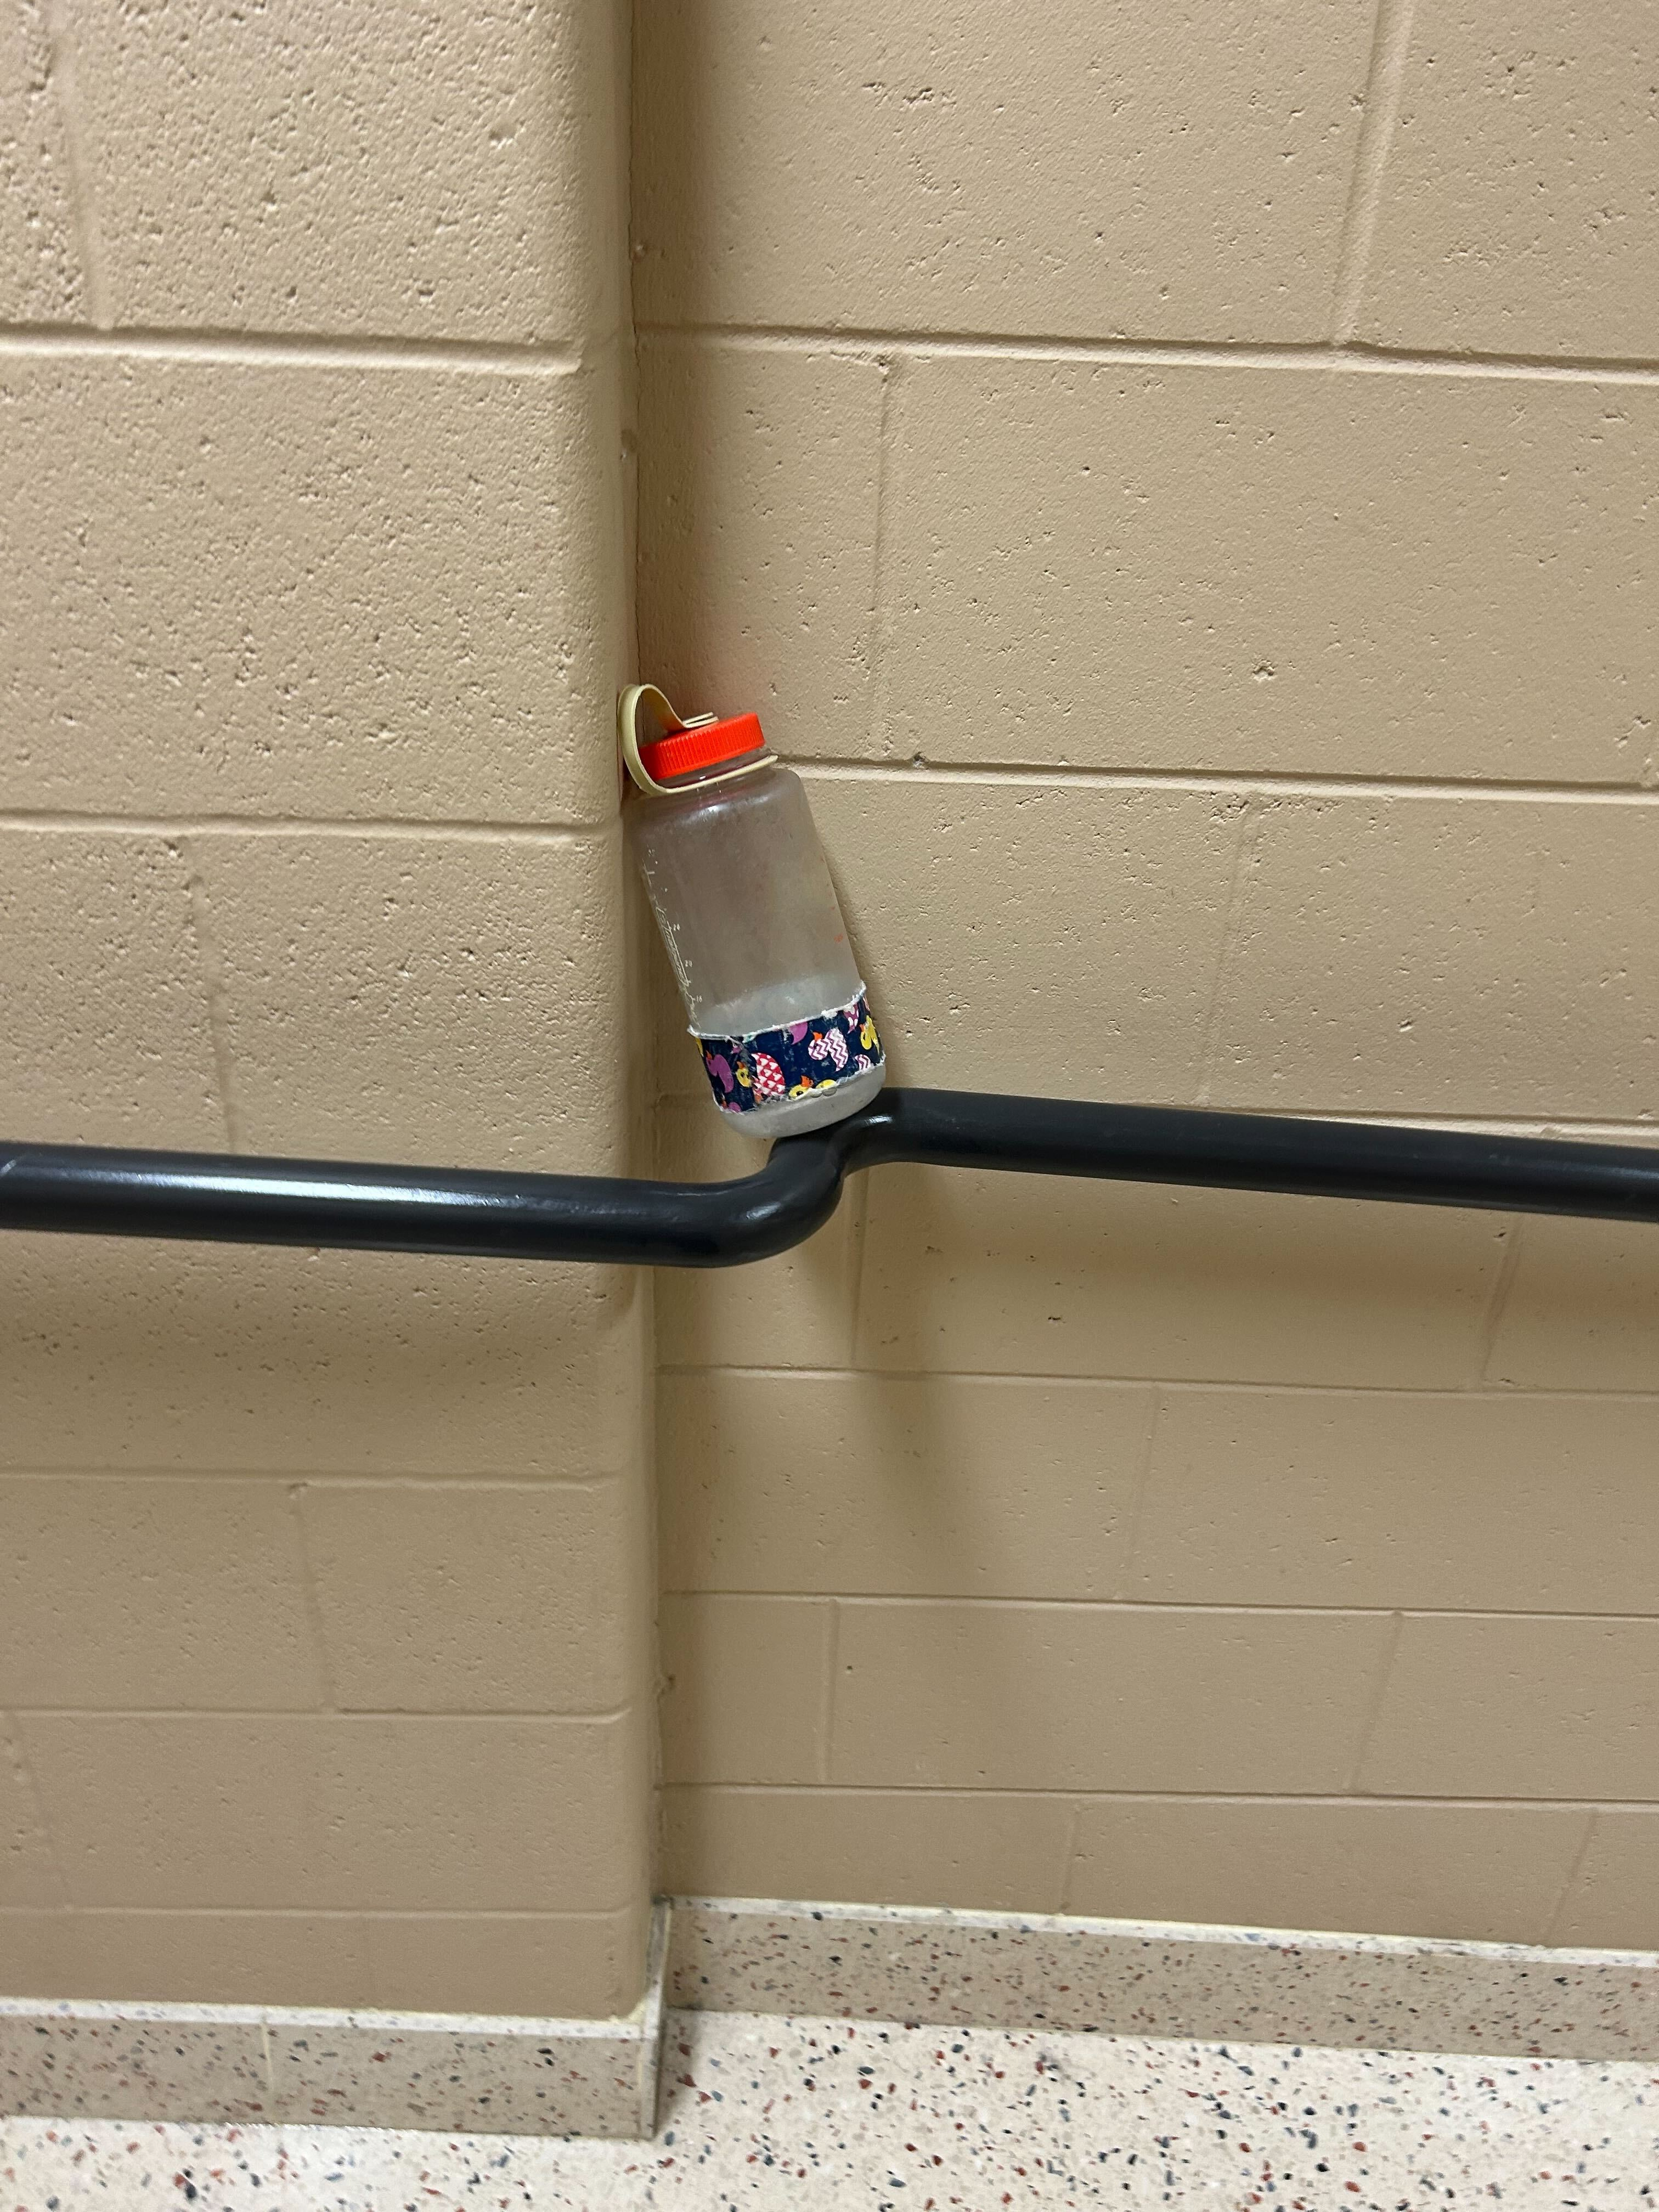bottle: (617, 672, 889, 1144)
